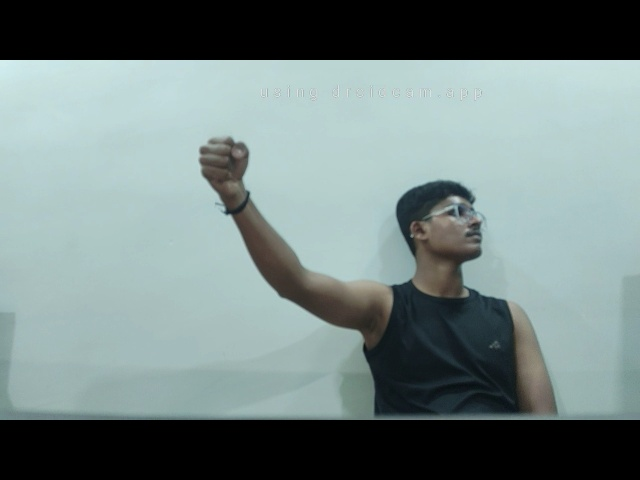yes: (187, 124, 260, 213)
